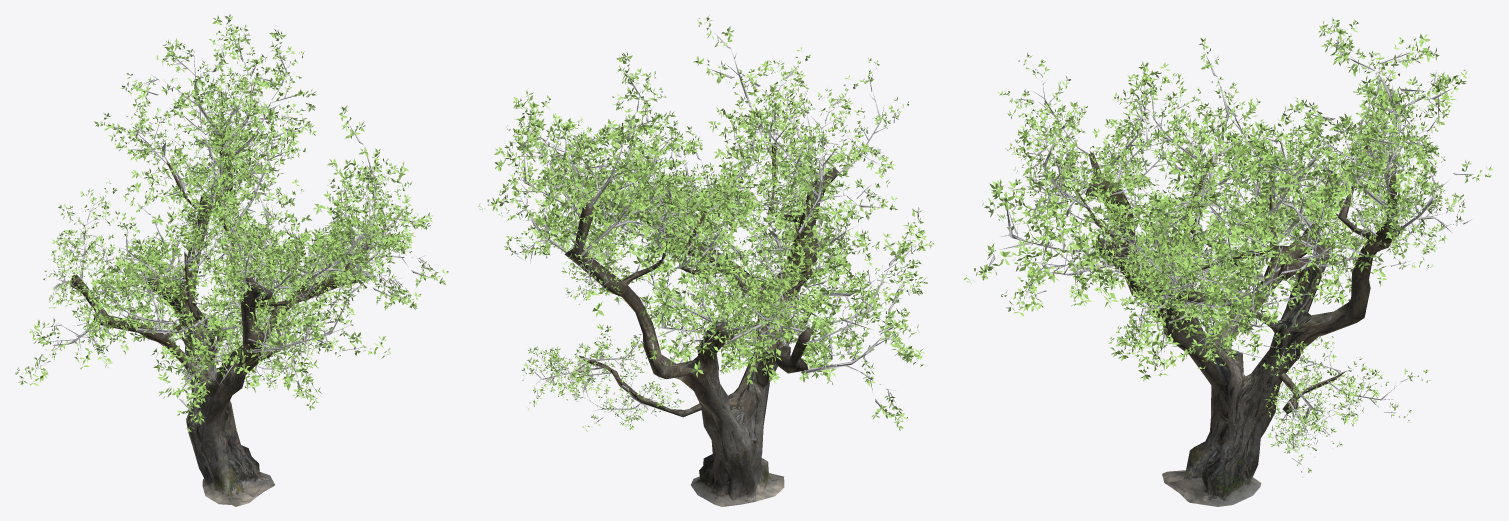
The model's file is tree2LOD2.fbx.
3 renders of one model, left to right at view 1: azimuth 30°, elevation 25°; view 2: azimuth 150°, elevation 25°; view 3: azimuth 270°, elevation 25°, orthographic. The views are drawn at different scales.
Parts seen in each view (by area): view 1: island_tree_01_LOD1; view 2: island_tree_01_LOD1; view 3: island_tree_01_LOD1.
Boxes of the visible parts, x1,y1,x2,y2 form: island_tree_01_LOD1: (15,14,448,506); island_tree_01_LOD1: (478,15,933,506); island_tree_01_LOD1: (964,17,1492,506).
Size of the model in its own units: 482 by 475 by 503.
